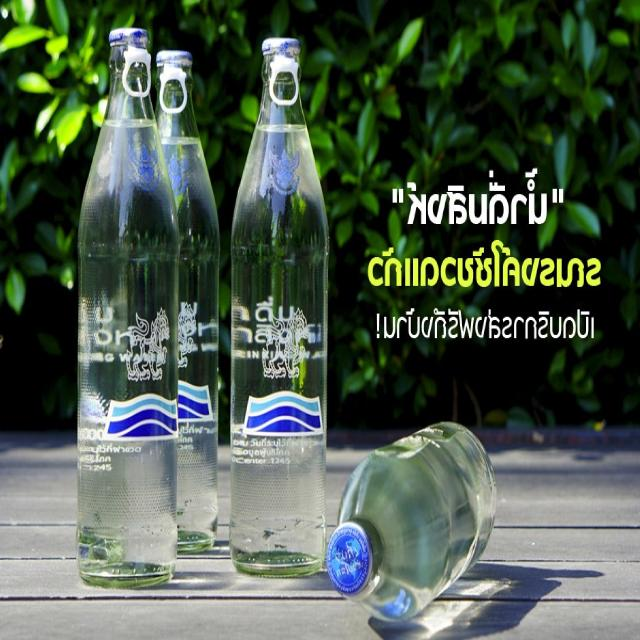glass: (75, 24, 181, 591), (228, 38, 329, 582), (325, 419, 500, 628), (152, 47, 218, 553)
